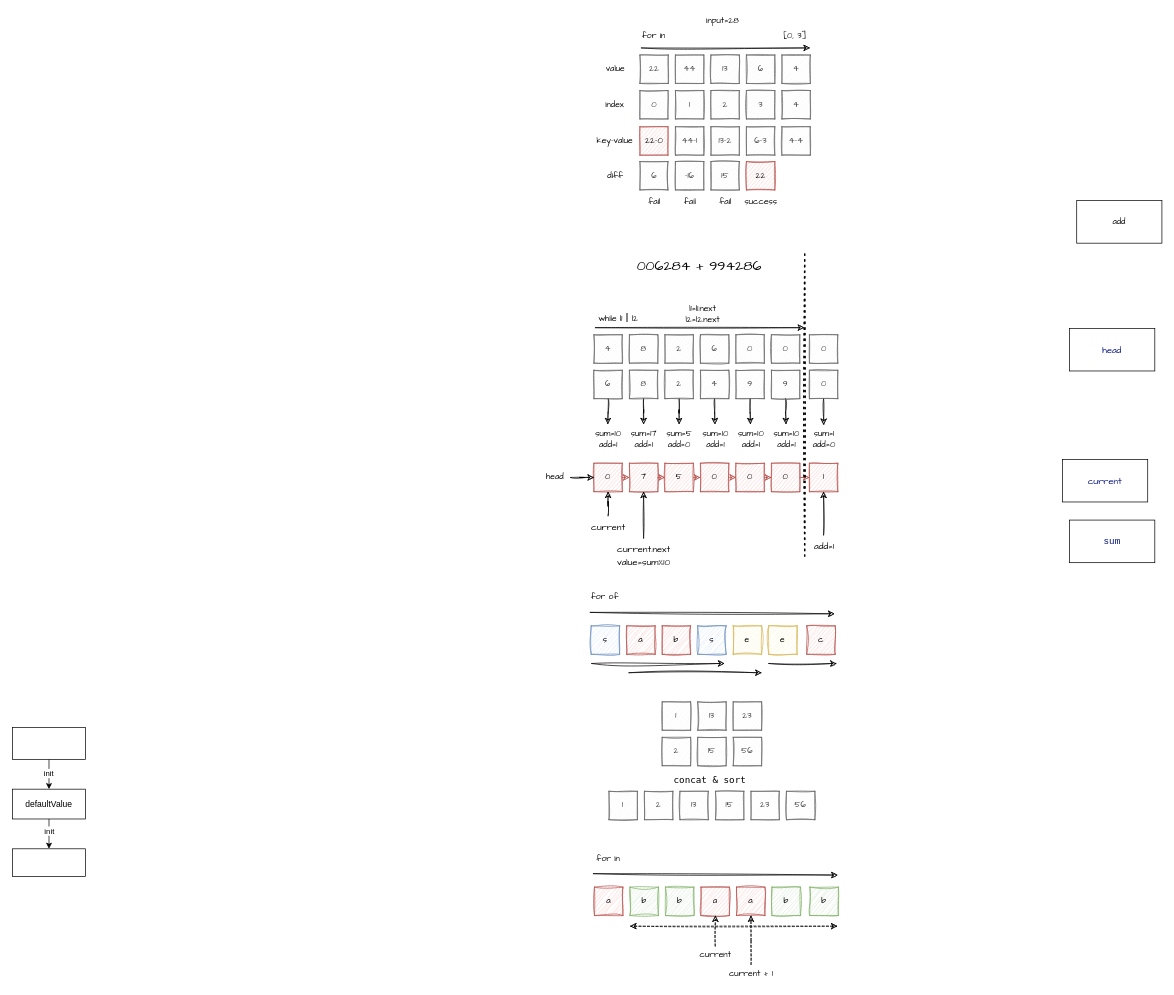
Image size: 1174x995. Some labels were removed from this diagram. Here are the shapes that lost their labels. From the top down, the centre of each, then its label:
At (x=49, y=743): "UrlState".
At (x=49, y=862): "hook form values".
